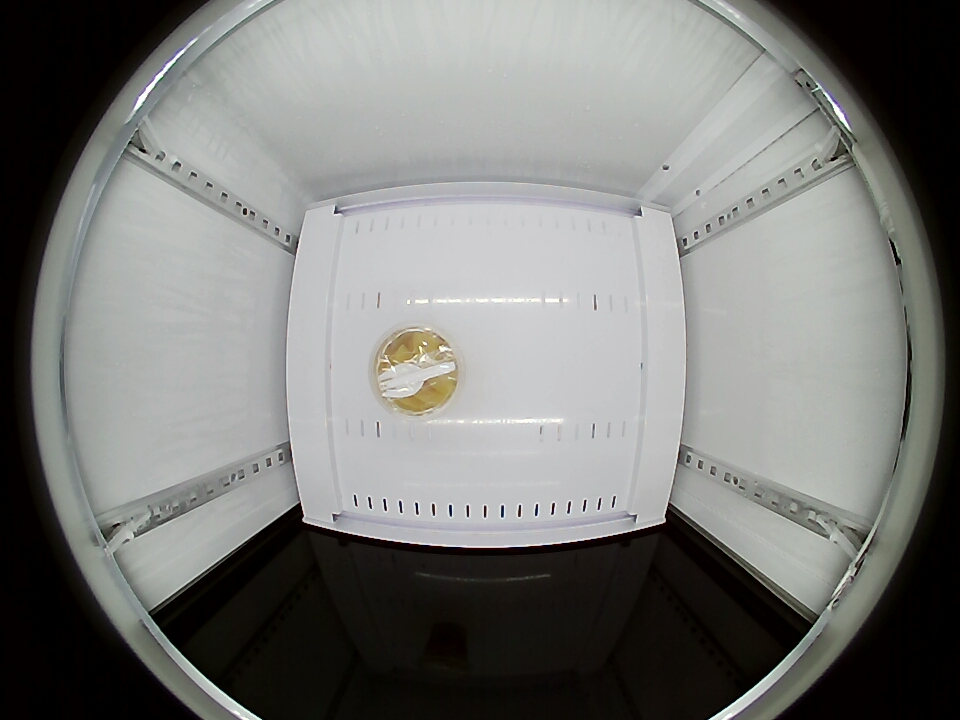xianguolao: (371, 324, 461, 419)
